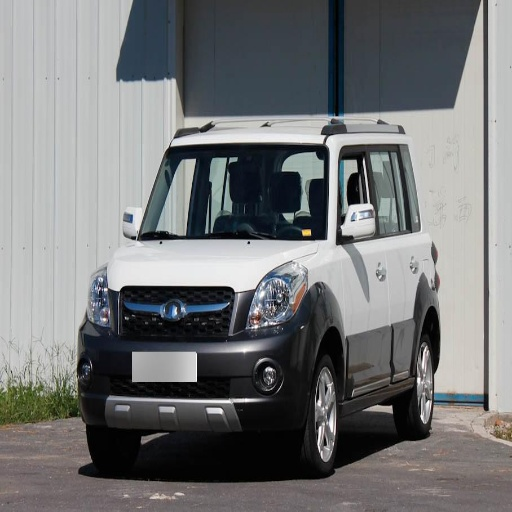front_bumper: (82, 278, 317, 432)
front_glass: (133, 145, 328, 239)
front_left_door: (338, 146, 391, 387)
front_right_light: (88, 269, 112, 327)
